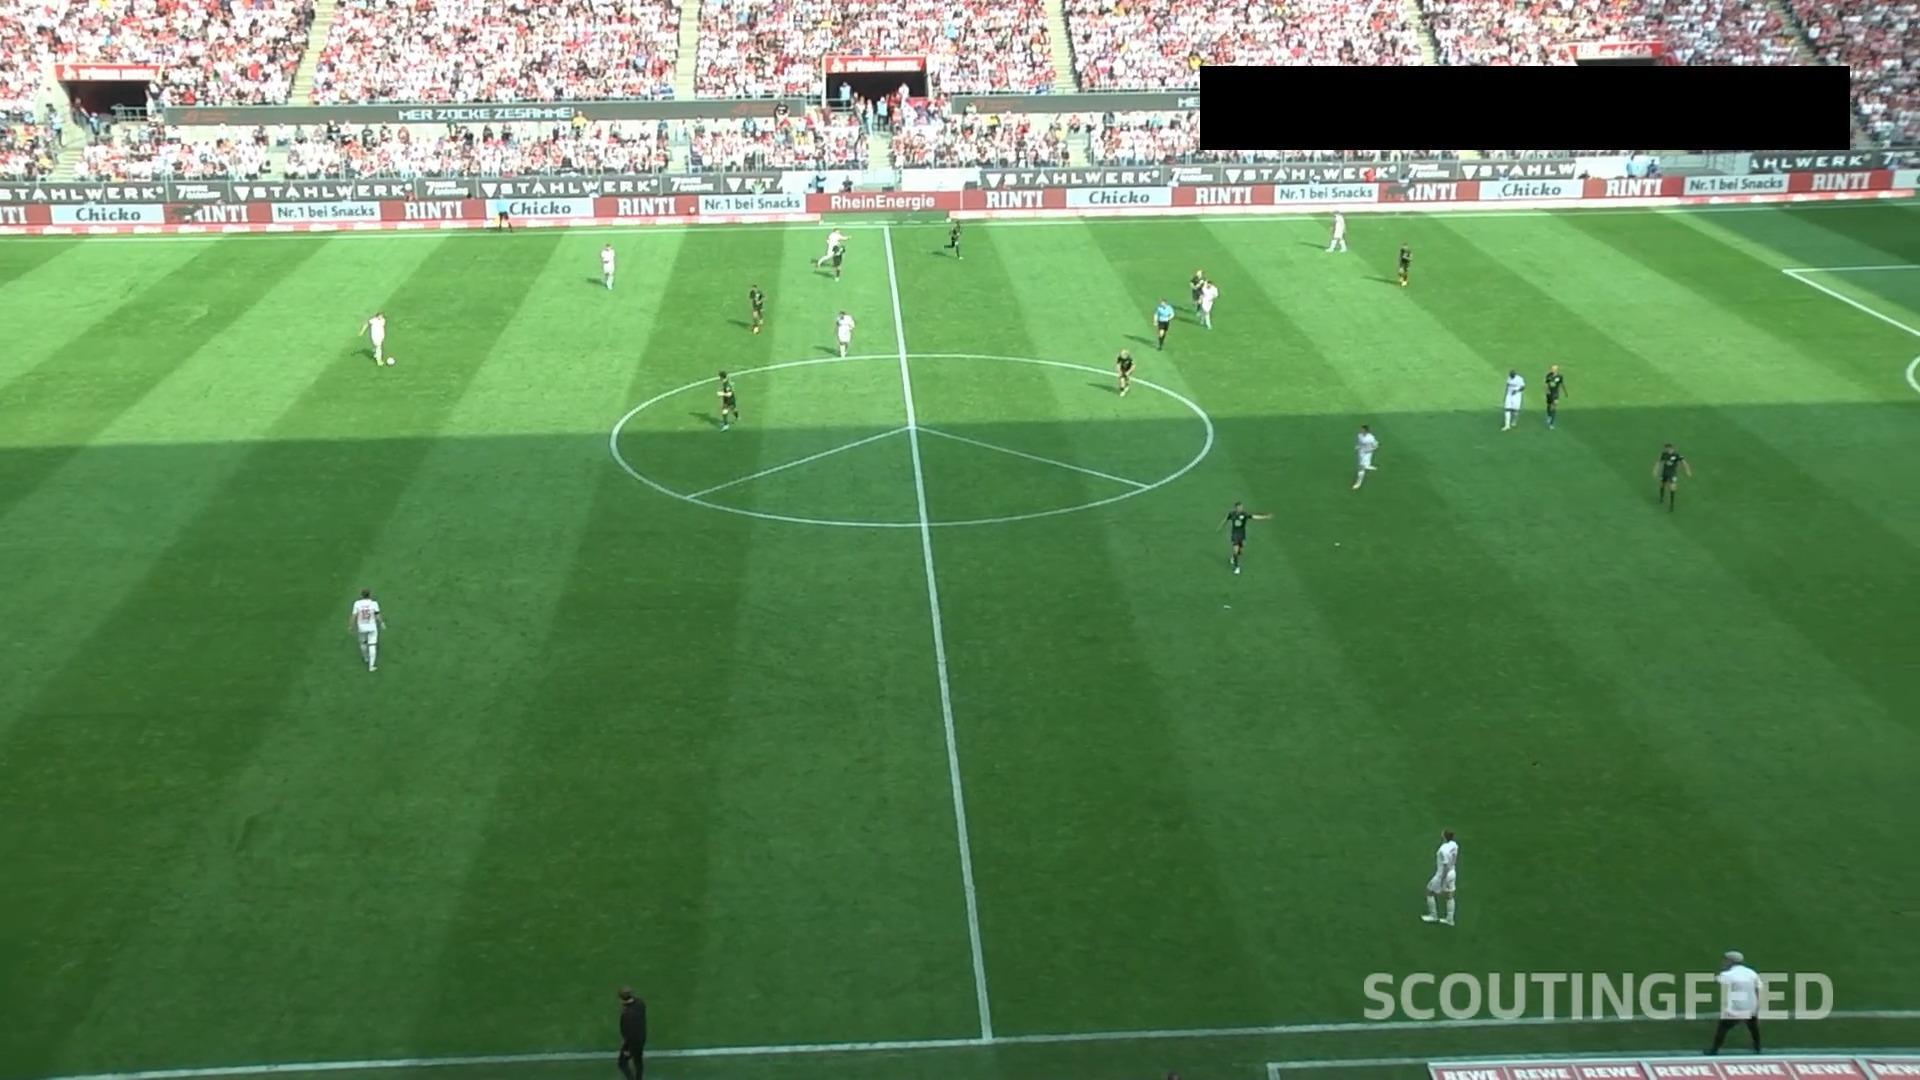ball: (385, 356, 396, 367)
